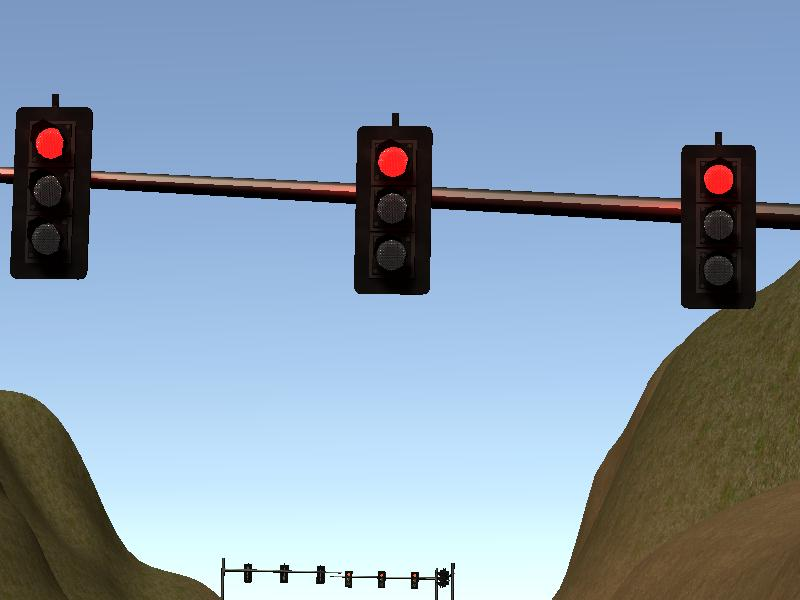Red: (10, 106, 89, 279), (358, 126, 430, 296), (683, 144, 754, 307)
